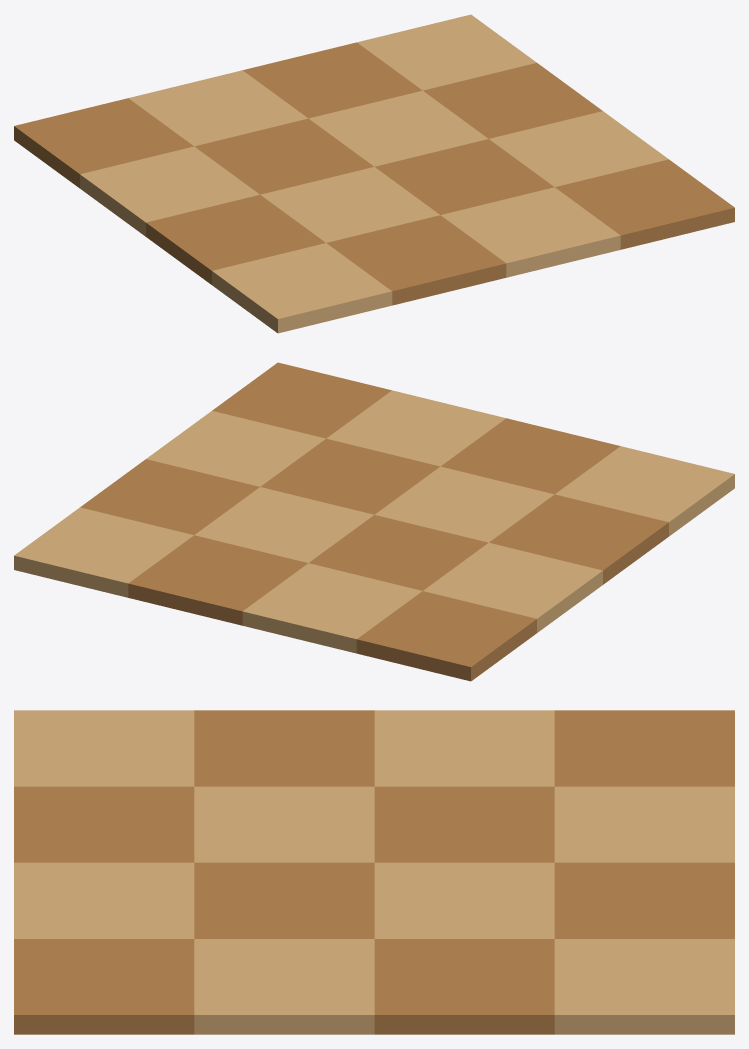
File: floor.glb
3 views of the same model, one above another, from view 1: azimuth 30°, elevation 25°; view 2: azimuth 150°, elevation 25°; view 3: azimuth 270°, elevation 25° (orthographic). The views are drawn at different scales.
Visible parts, largest first — view 1: floor; view 2: floor; view 3: floor.
Part boxes in pixels (box(x1,y1,x2,y2)): floor: box(14, 14, 734, 333); floor: box(14, 362, 734, 681); floor: box(14, 710, 734, 1034).
Bounding box in the file's own units: 1 × 0.03 × 1.
1 material, 1 textured.
